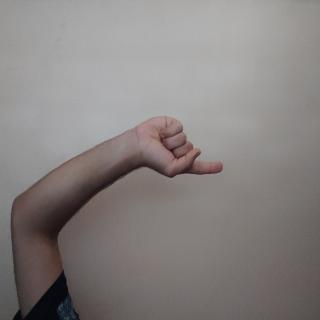BAA: (85, 124, 140, 252)
